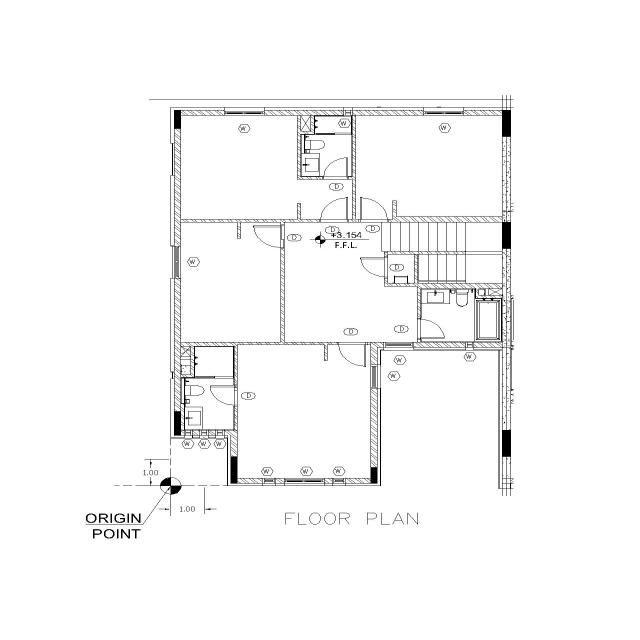Column: (500, 429, 512, 458), (501, 109, 512, 138), (502, 222, 512, 250), (229, 456, 239, 484), (173, 411, 182, 437), (172, 108, 182, 130), (369, 466, 379, 485)
Door: (318, 218, 350, 224), (358, 218, 390, 224), (336, 341, 368, 346), (279, 224, 285, 250), (233, 383, 239, 408), (416, 317, 422, 340), (383, 256, 389, 279), (322, 176, 350, 180)
Staircase: (356, 221, 512, 284)
Window: (222, 106, 266, 117), (422, 106, 466, 116), (172, 243, 182, 280), (369, 363, 379, 390), (382, 341, 415, 349), (282, 478, 326, 484), (342, 106, 354, 117), (260, 477, 278, 484), (464, 340, 476, 348), (214, 428, 224, 437), (331, 478, 345, 484), (197, 429, 209, 436), (183, 429, 193, 436)
